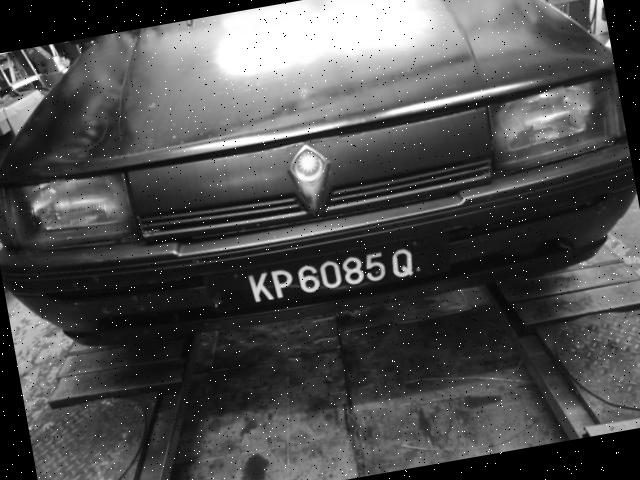License_Plate: (239, 238, 427, 311)
car: (1, 1, 640, 372)
